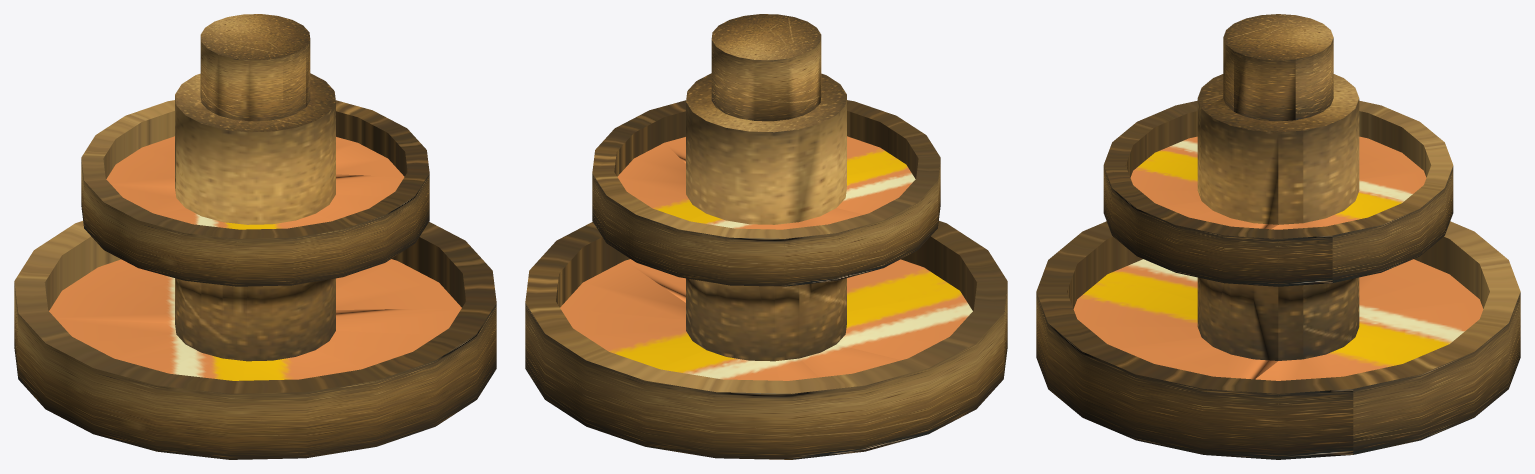
File: Fountain_B.fbx
3 views of the same model, side by side, from view 1: azimuth 30°, elevation 25°; view 2: azimuth 150°, elevation 25°; view 3: azimuth 270°, elevation 25° (orthographic).
Parts seen in each view (by area): view 1: Fountain Body; view 2: Fountain Body; view 3: Fountain Body.
Boxes of the visible parts, left/top/right/bottom form: Fountain Body: left=14, top=14, right=496, bottom=459; Fountain Body: left=525, top=14, right=1007, bottom=459; Fountain Body: left=1036, top=14, right=1520, bottom=459.
Bounding box in the file's own units: 108 × 78.48 × 108.
